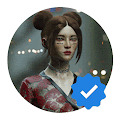fraud: (71, 73, 105, 109)
